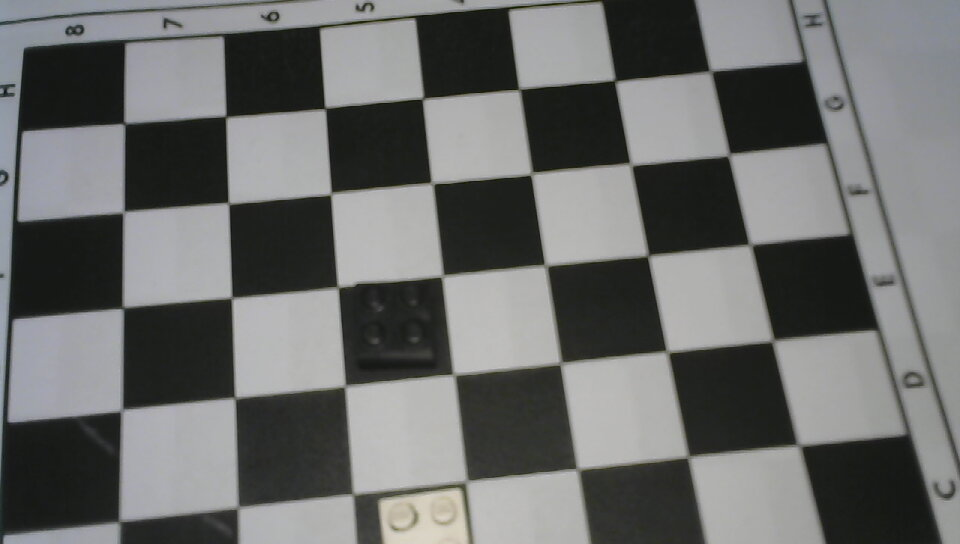bp: (346, 274, 440, 374)
